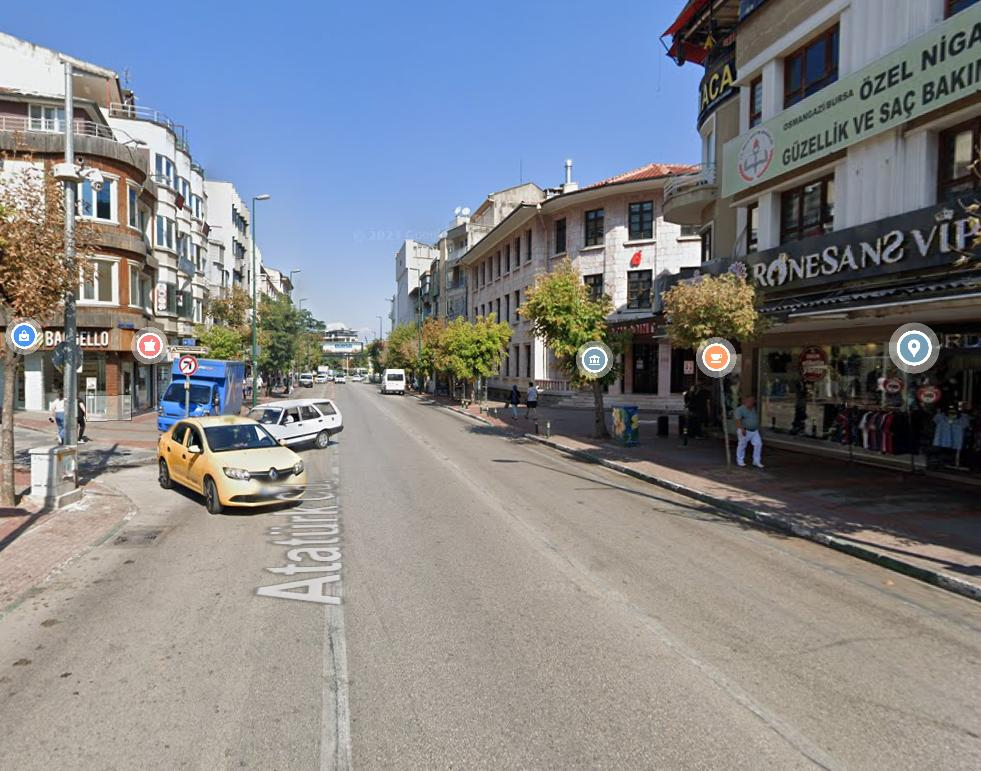leftturnsareforbidden: (180, 355, 197, 373)
